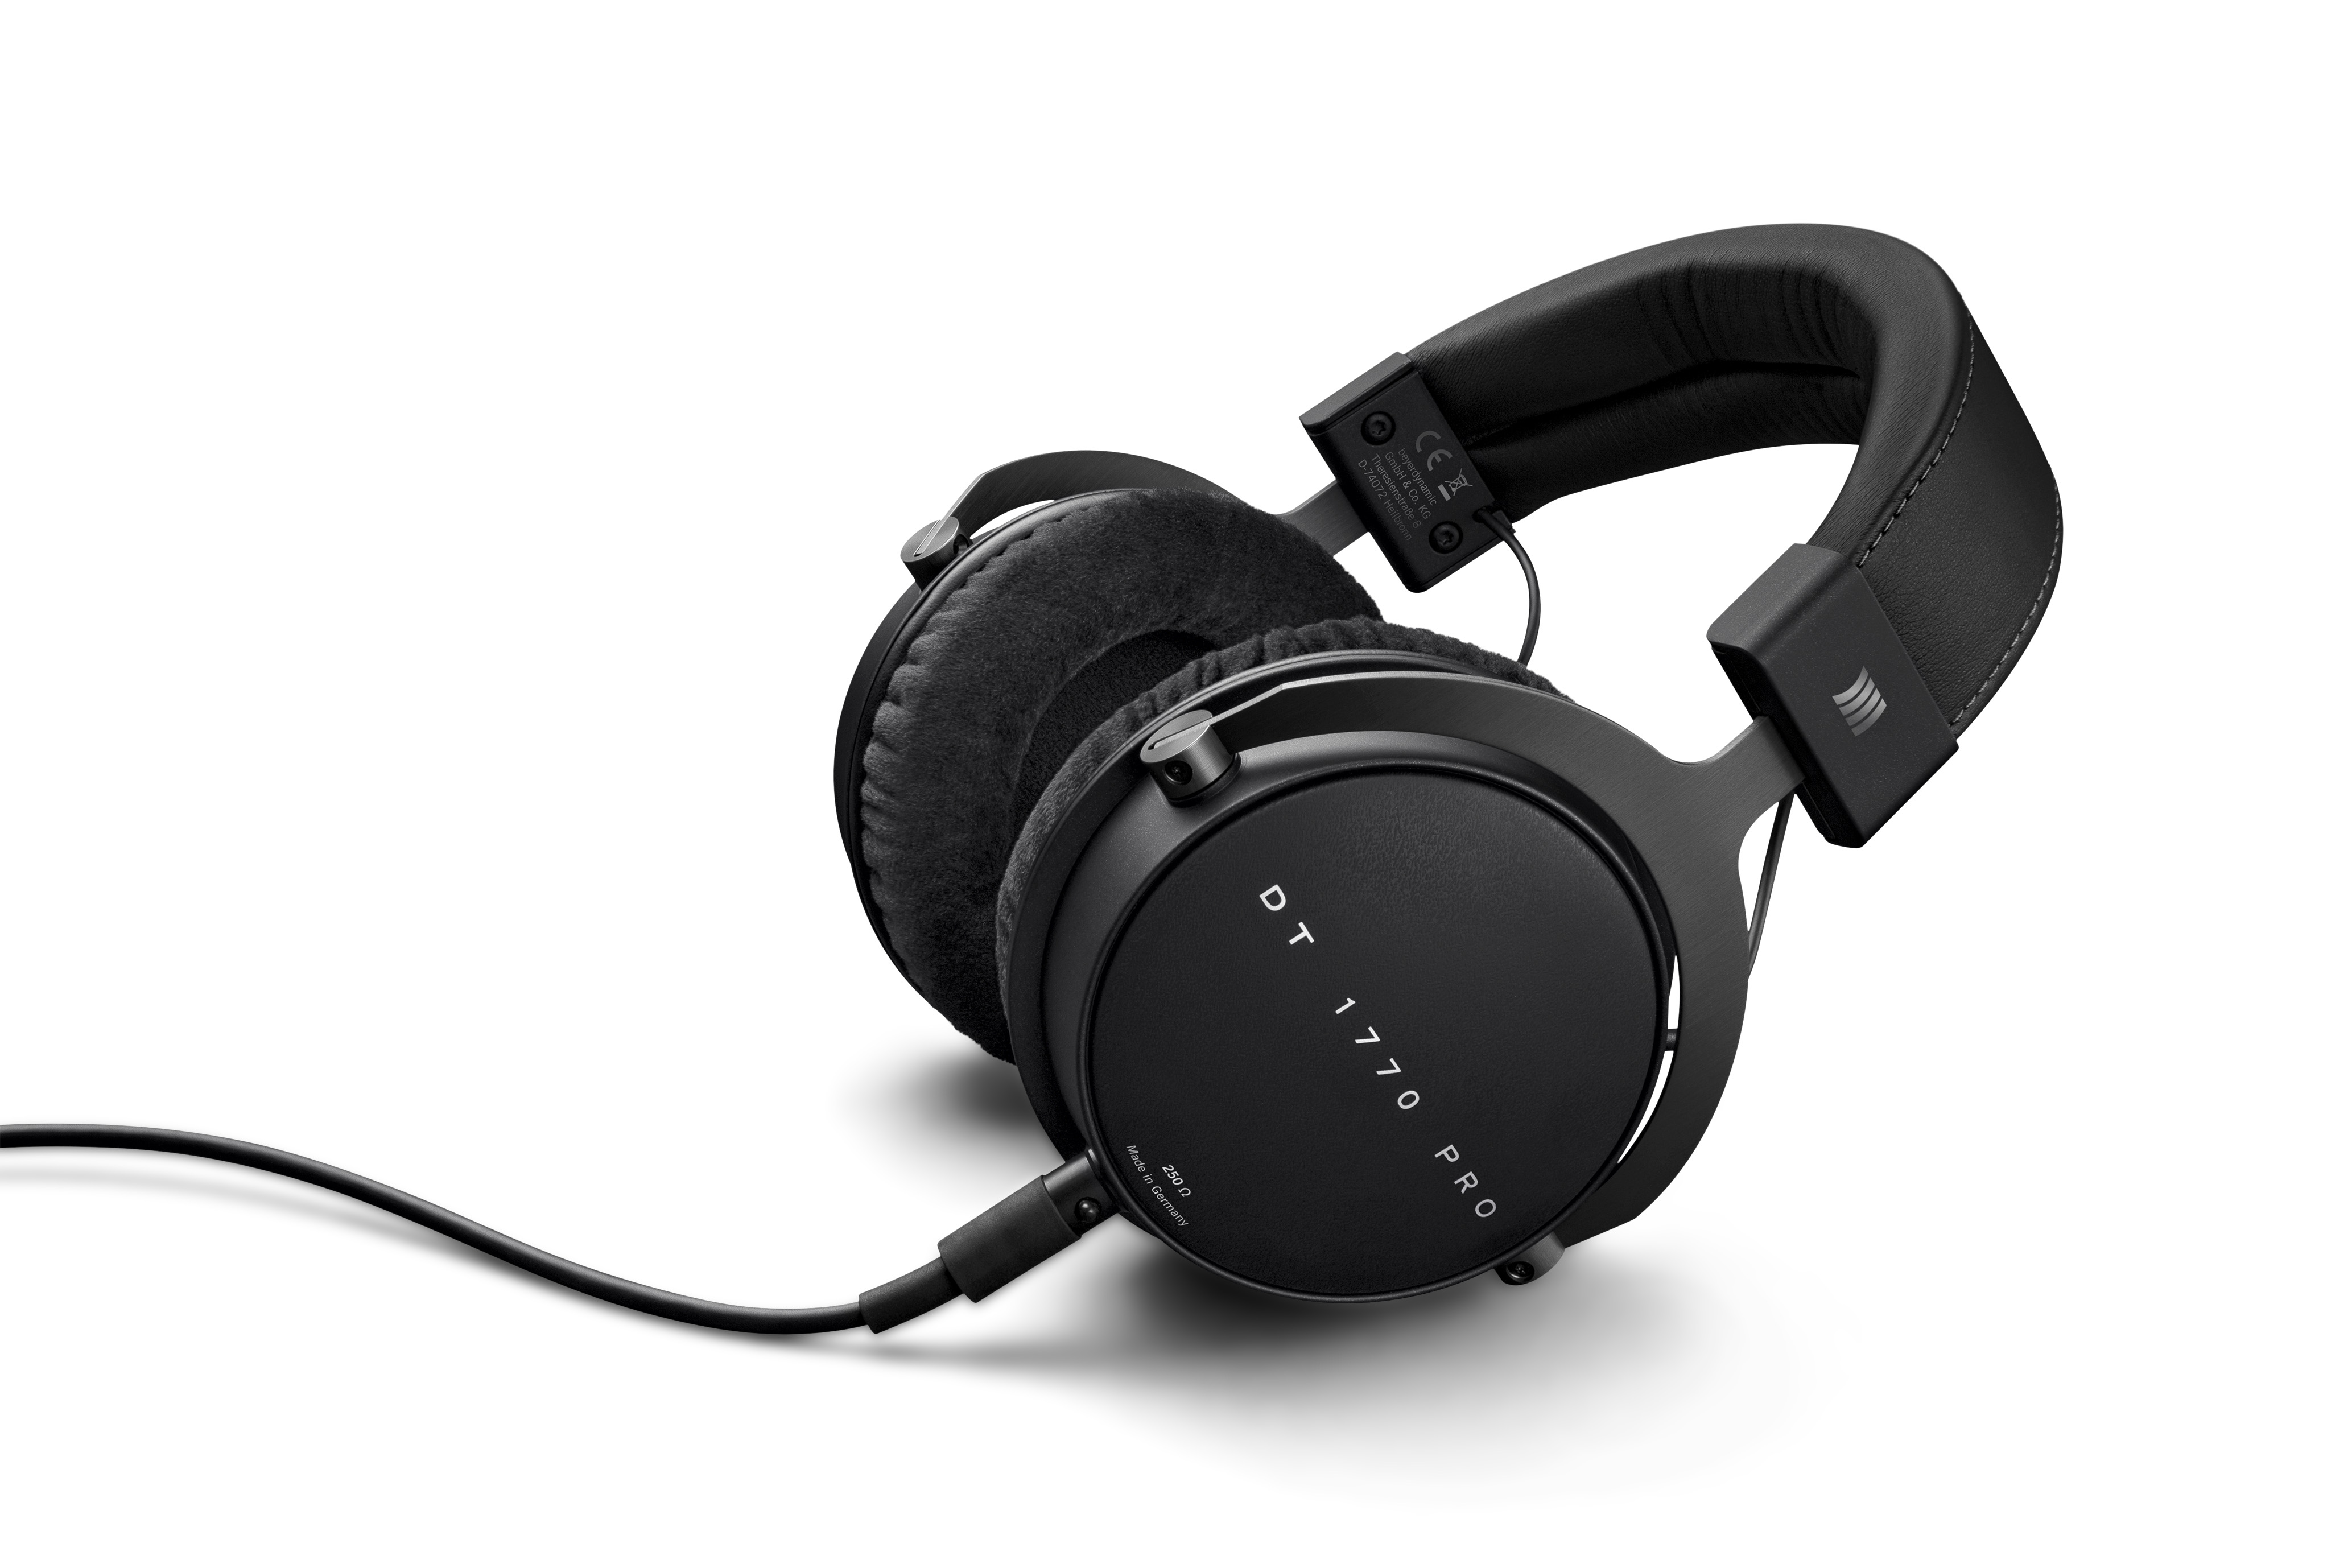Headphone: (807, 200, 2088, 1412)
